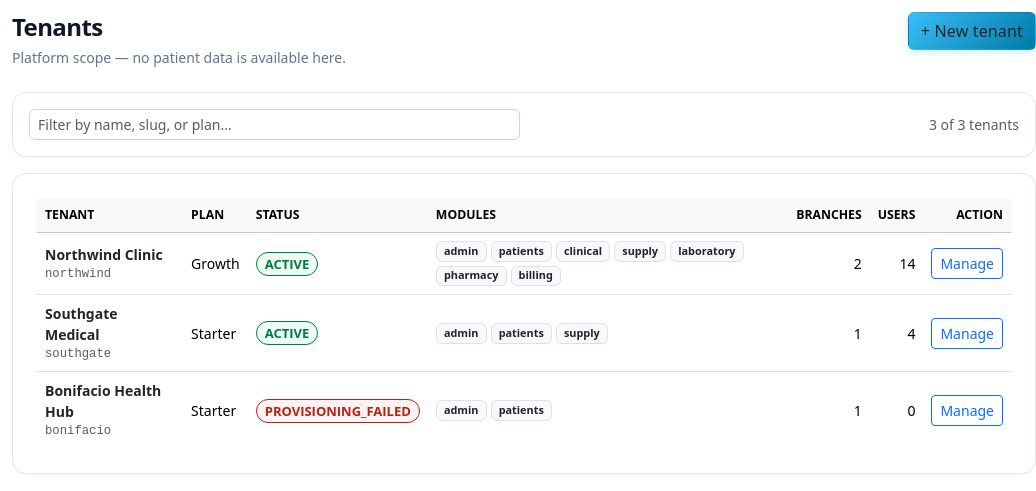
Test: Platform console (todo §1.7) › TenantsPage lists tenants with plan, status, and module chips; no PHI surface
The image size is (1036, 491).
Expected: the text "Platform scope — no patient data is available here." is shown, [12, 47, 346, 68]
Expected: the text "Northwind Clinic" is shown, [45, 244, 175, 265]
Filter narrows the table.
Type "southgate" into the field named "Filter tenants" at (274, 124), box [29, 109, 520, 140]
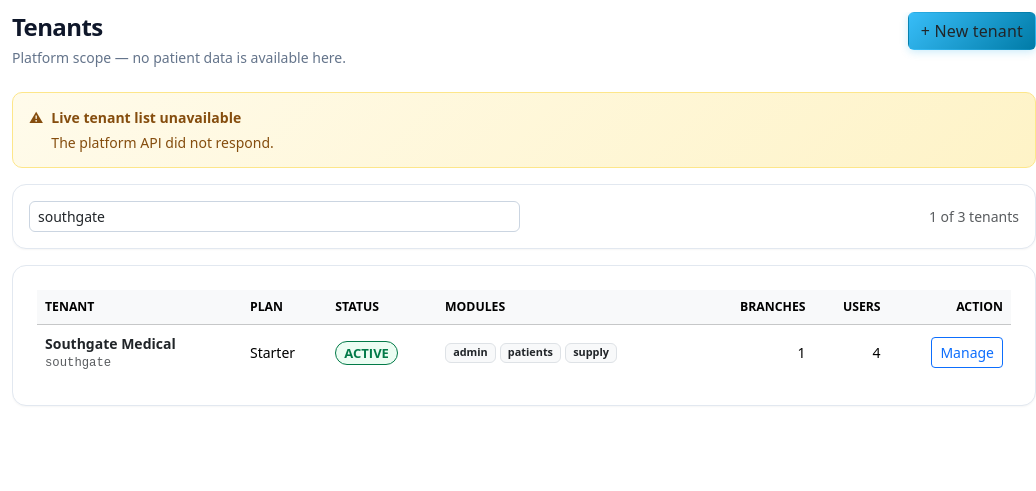
Result: the text "1 of 3 tenants" is shown at [929, 207, 1019, 226]
